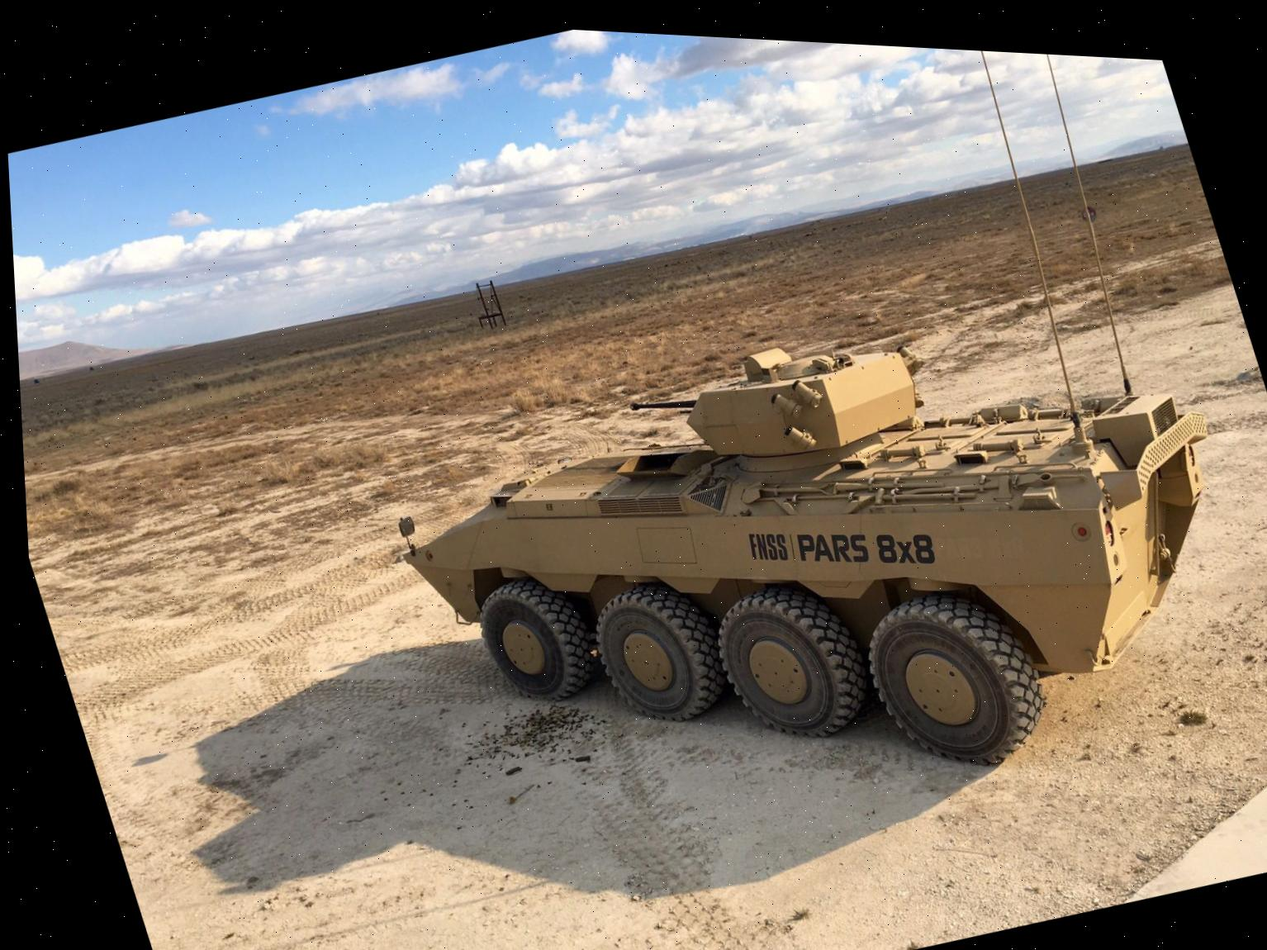armored_car: (367, 229, 1267, 908)
